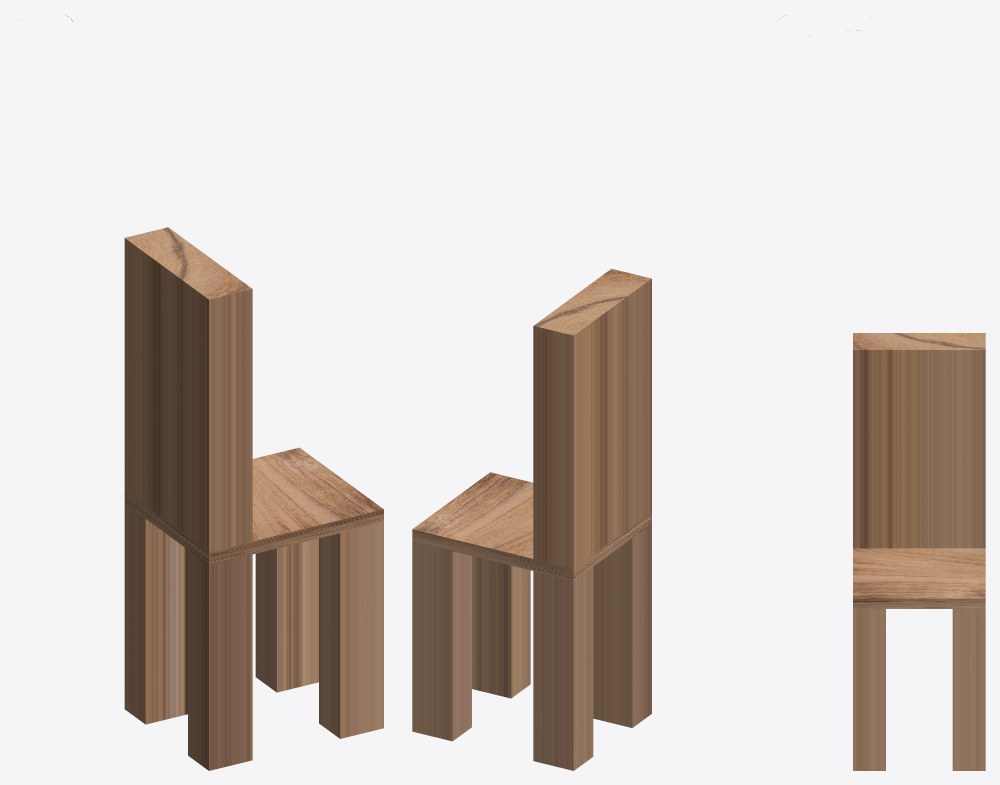
File: Chair.fbx
The picture shows the model from 3 angles, left to right: view 1: azimuth 30°, elevation 25°; view 2: azimuth 150°, elevation 25°; view 3: azimuth 270°, elevation 25°; orthographic projection. The views are drawn at different scales.
Visible parts, largest first — view 1: Chair; view 2: Chair; view 3: Chair.
Part boxes in pixels (x1,y1,x2,y2): Chair: (19,15,383,770); Chair: (412,15,810,770); Chair: (846,16,985,770).
Size of the model in its own units: 386 by 806 by 169.
